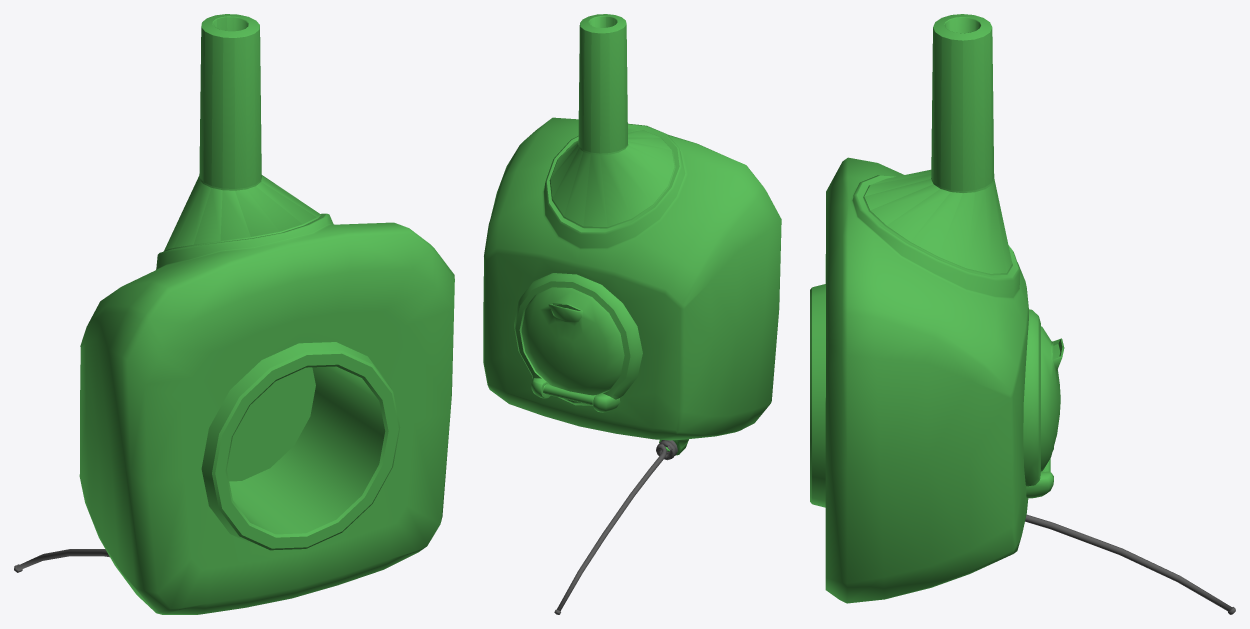
Rendered from GunTurret.fbx.
3 renders of one model, left to right at view 1: azimuth 30°, elevation 25°; view 2: azimuth 150°, elevation 25°; view 3: azimuth 270°, elevation 25°, orthographic. The views are drawn at different scales.
Parts seen in each view (by area): view 1: GunTurret; view 2: GunTurret; view 3: GunTurret.
Part boxes in pixels (left/top/right/bottom): GunTurret: left=14, top=14, right=454, bottom=614; GunTurret: left=483, top=14, right=781, bottom=614; GunTurret: left=810, top=14, right=1235, bottom=614.
Size of the model in its own units: 129 by 233 by 144.
